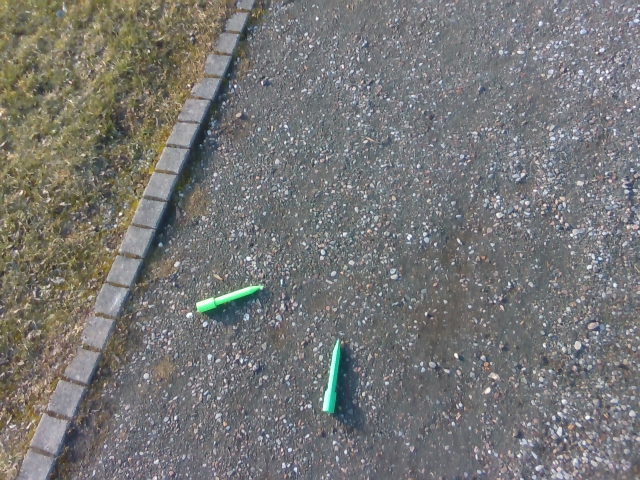Probe: (193, 282, 267, 320), (319, 334, 347, 420)
